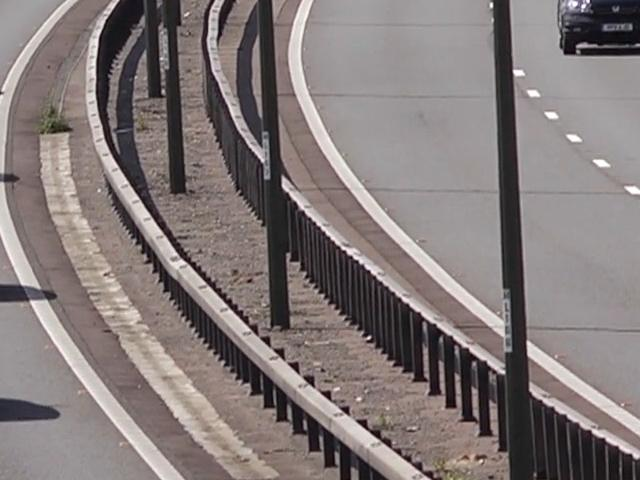car: (544, 0, 640, 51)
